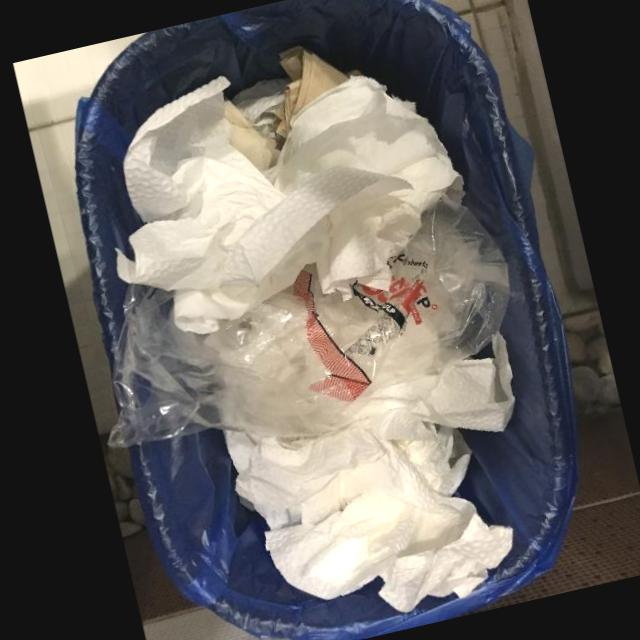giay: (115, 74, 458, 333), (223, 330, 514, 612), (275, 45, 348, 137)
tui_ni_long: (107, 196, 508, 447)
